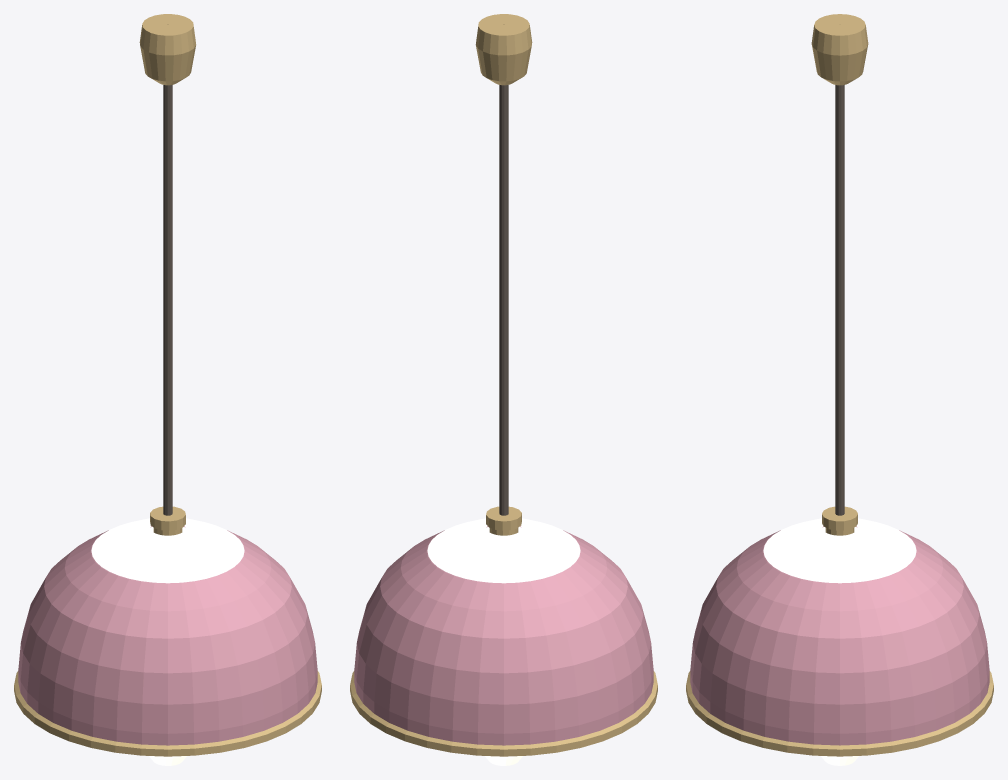
The model's file is pendant_light.glb.
The picture shows the model from 3 angles, left to right: view 1: azimuth 30°, elevation 25°; view 2: azimuth 150°, elevation 25°; view 3: azimuth 270°, elevation 25°; orthographic projection.
Visible parts, largest first — view 1: pendant_hd_pinkmetal, pendant_hd_brass, pendant_hd_shadeinner, pendant_hd_cord; view 2: pendant_hd_pinkmetal, pendant_hd_brass, pendant_hd_shadeinner, pendant_hd_cord; view 3: pendant_hd_pinkmetal, pendant_hd_brass, pendant_hd_shadeinner, pendant_hd_cord.
Part boxes in pixels (bbox=[...]): pendant_hd_pinkmetal: bbox=[18, 526, 317, 745]; pendant_hd_brass: bbox=[14, 14, 321, 756]; pendant_hd_shadeinner: bbox=[91, 518, 244, 583]; pendant_hd_cord: bbox=[163, 85, 172, 515]; pendant_hd_pinkmetal: bbox=[354, 526, 653, 745]; pendant_hd_brass: bbox=[350, 14, 657, 756]; pendant_hd_shadeinner: bbox=[427, 518, 580, 583]; pendant_hd_cord: bbox=[499, 85, 508, 515]; pendant_hd_pinkmetal: bbox=[690, 526, 989, 745]; pendant_hd_brass: bbox=[686, 14, 993, 756]; pendant_hd_shadeinner: bbox=[763, 518, 916, 583]; pendant_hd_cord: bbox=[835, 85, 844, 515].
Size of the model in its own units: 0.596 by 1.58 by 0.596.
